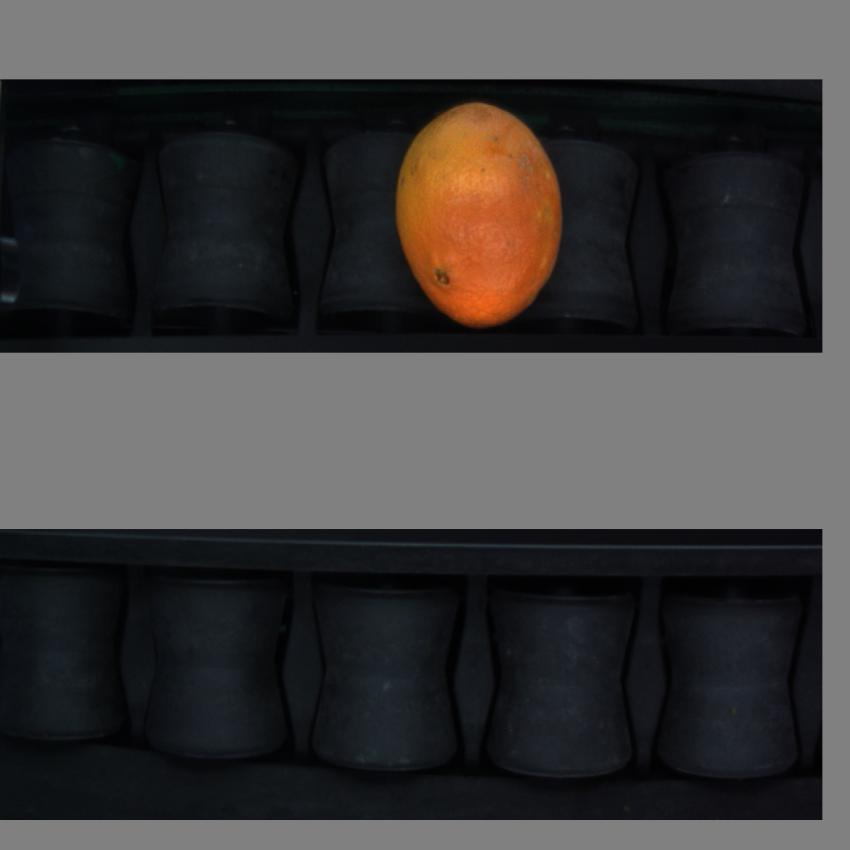Mal estado: (394, 97, 570, 325)
